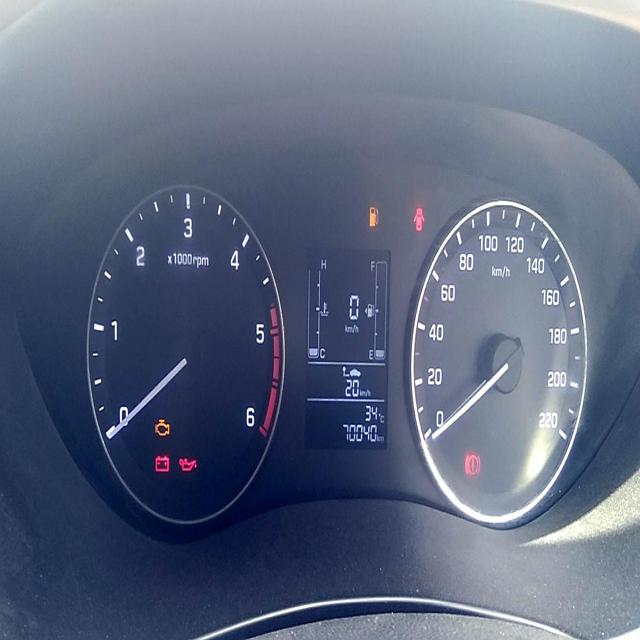odometer: (339, 420, 379, 448)
